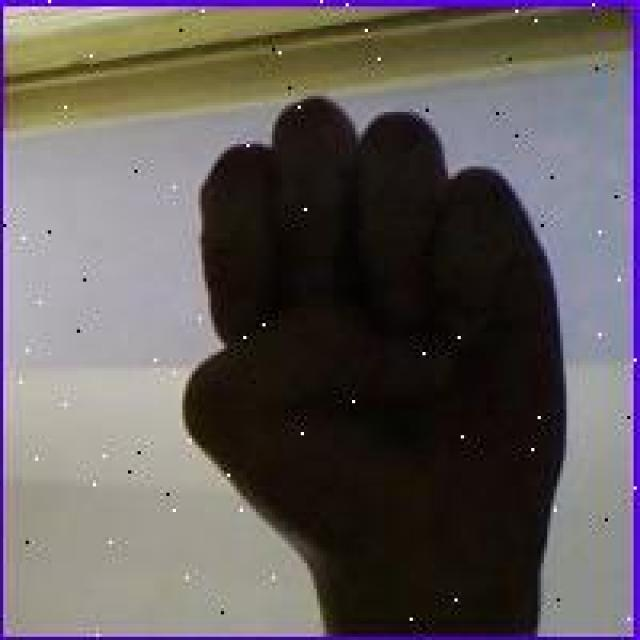E: (173, 91, 579, 571)
